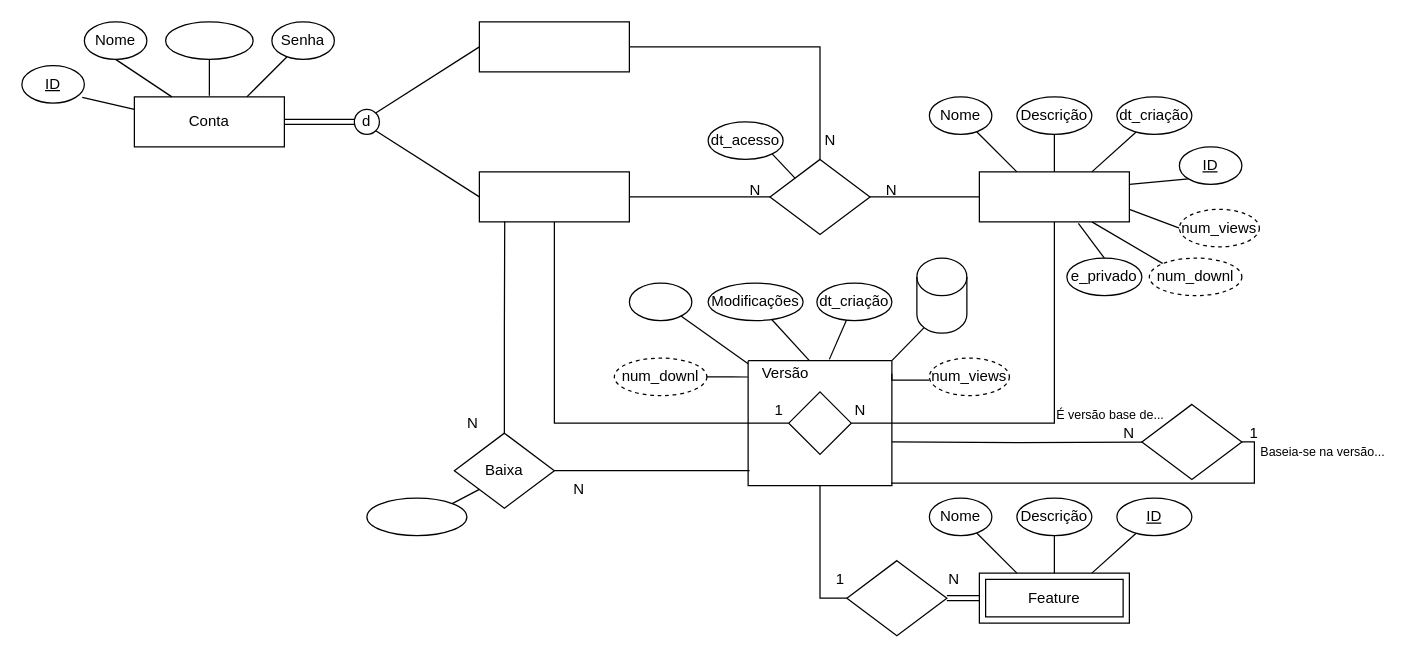
This 1414x658 diagram has some shape labels left out. Each missing label, with the centre of its shape:
Admin: the point at 553,46
arquivo csv: the point at 941,295
Dataset: the point at 1053,196
dt_download: the point at 416,516
Email (UK): the point at 208,40
Implementa: the point at 896,597
Número: the point at 660,301
Usuário: the point at 553,196
versão_base: the point at 1191,441
Visualiza: the point at 819,196
